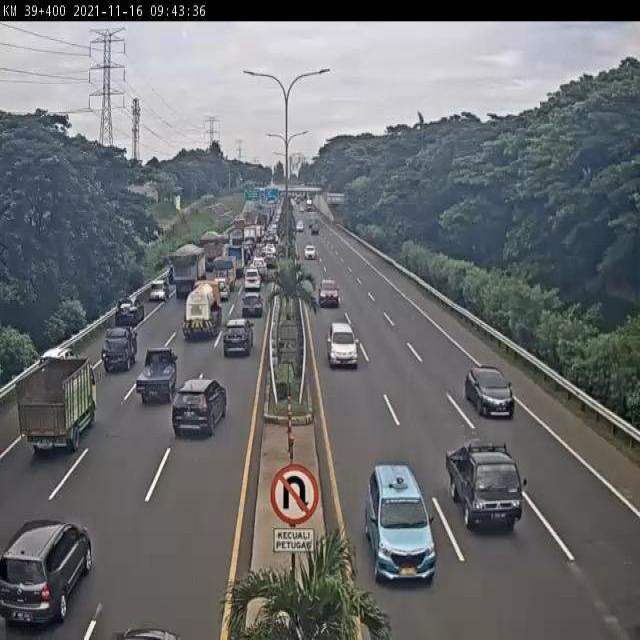car: (0, 520, 94, 629), (368, 461, 436, 584), (447, 440, 530, 535), (172, 374, 227, 434), (463, 363, 515, 421), (136, 351, 182, 412), (100, 327, 137, 376), (327, 319, 359, 369), (223, 318, 255, 358), (115, 294, 146, 326), (242, 290, 266, 318), (142, 283, 165, 309), (317, 276, 338, 304), (211, 277, 232, 304), (242, 270, 259, 294)
small truck: (14, 353, 100, 456)
truck-l-: (170, 242, 209, 298)
truck-m-: (180, 280, 226, 344)
